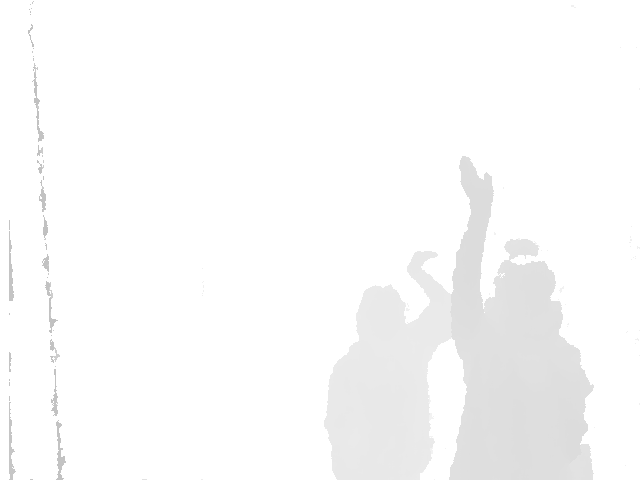hand: (458, 155, 495, 211), (406, 251, 438, 274)
head: (492, 237, 556, 322), (358, 285, 408, 347)
person: (450, 155, 595, 479), (321, 252, 453, 480)
